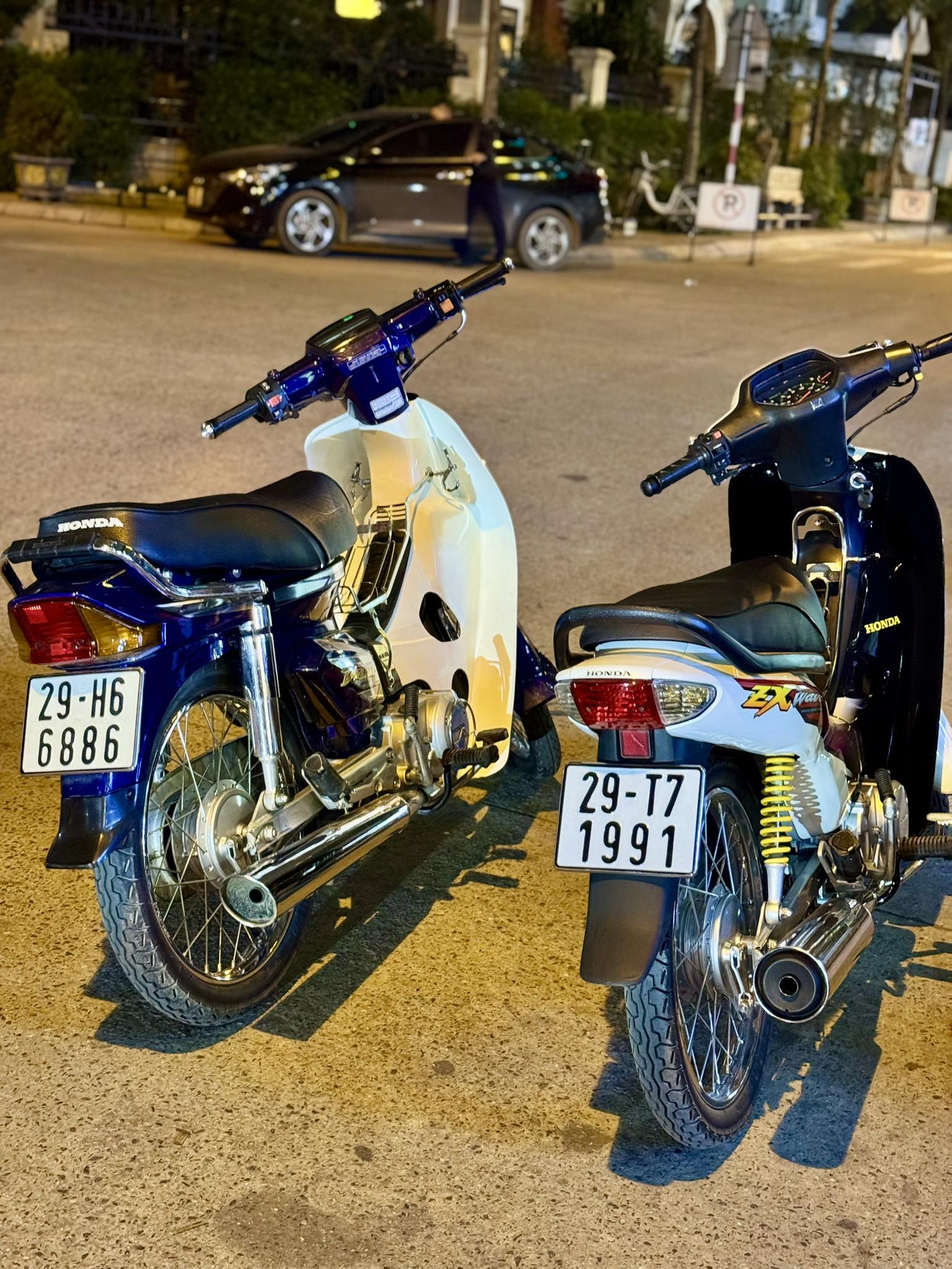bien_so: (548, 758, 716, 884), (16, 663, 159, 785)
